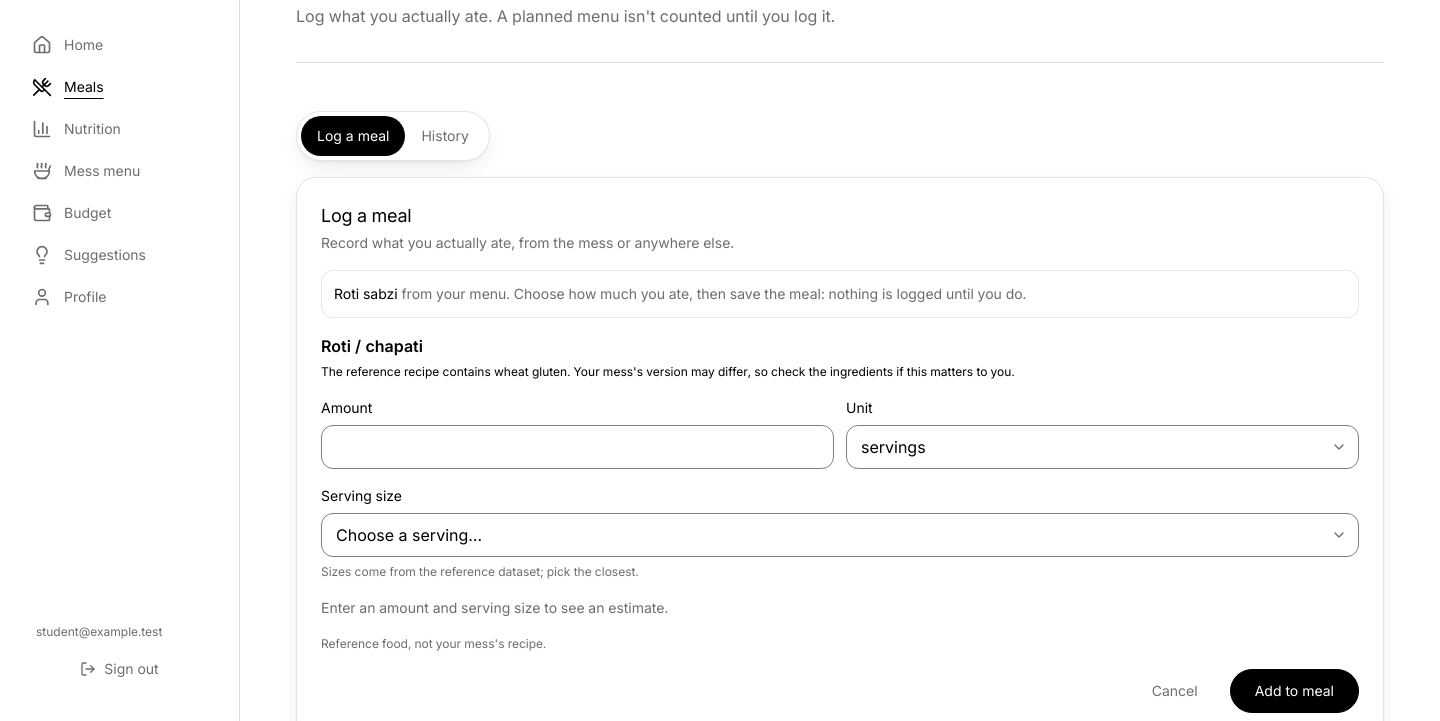
Test: logging a dish from a suggestion › prefills the linked reference food, waits for a portion and an explicit save, then sends the menu links
Expected: the form named "Portion of Roti / chapati" is shown, [321, 334, 1359, 713]
Expected: the message shows "Roti sabzi from your menu", [321, 270, 1359, 318]
Type "1" into the field labelled "Amount".
click(578, 447); type("1")  # box [321, 425, 834, 469]
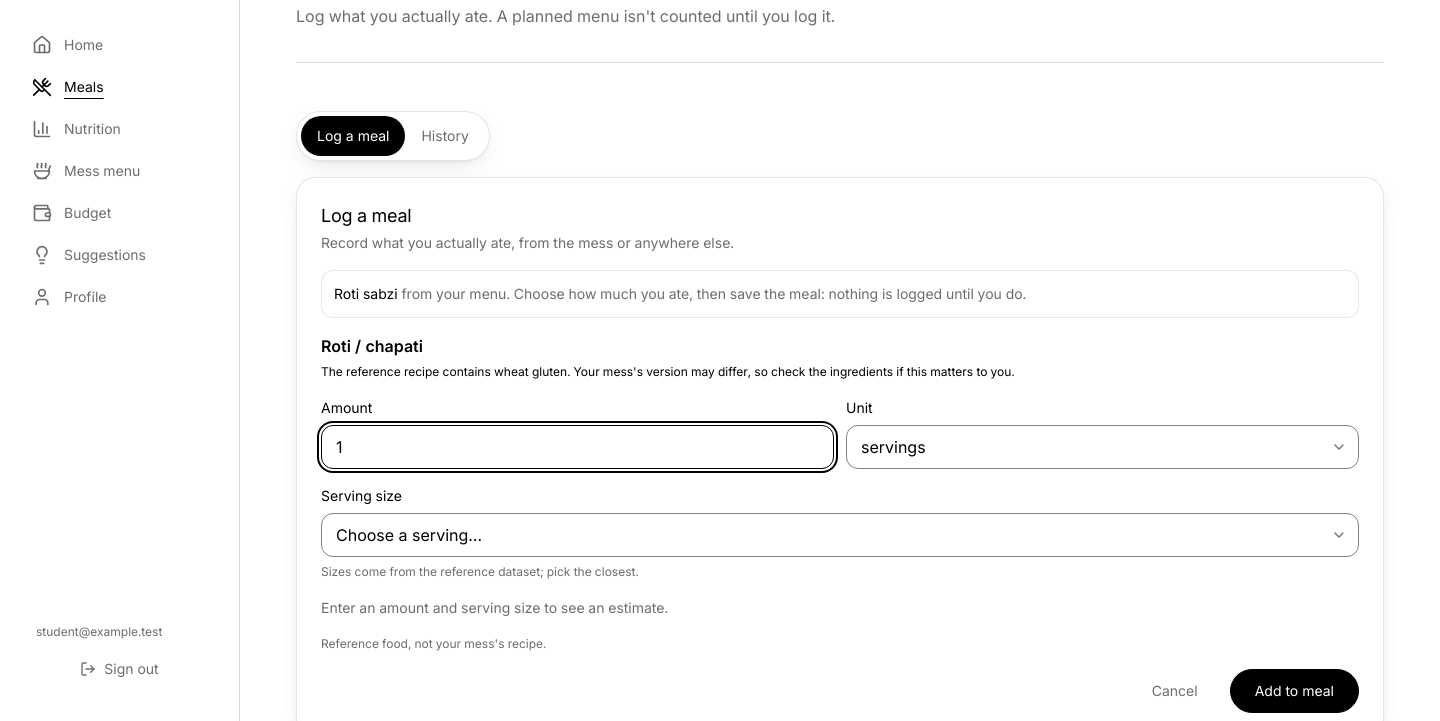
Select "1 medium roti (40 g)" in the dropdown labelled "Serving size" at {"x": 840, "y": 535}, box [321, 513, 1359, 557]
(page scrolled)
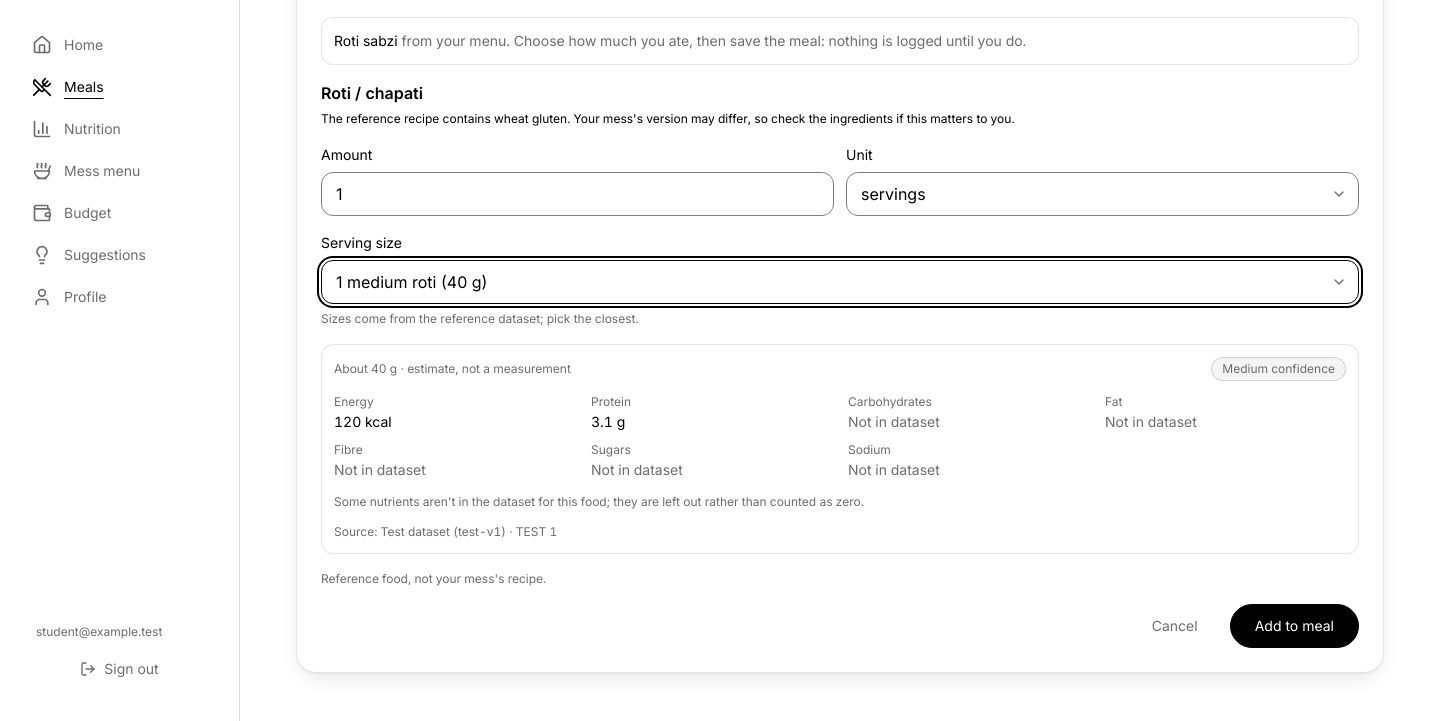
Expected: the text "120 kcal" is shown, [334, 413, 392, 430]
Click the button "Add to meal".
click(1294, 626)  # box [1230, 604, 1359, 648]
(page scrolled)
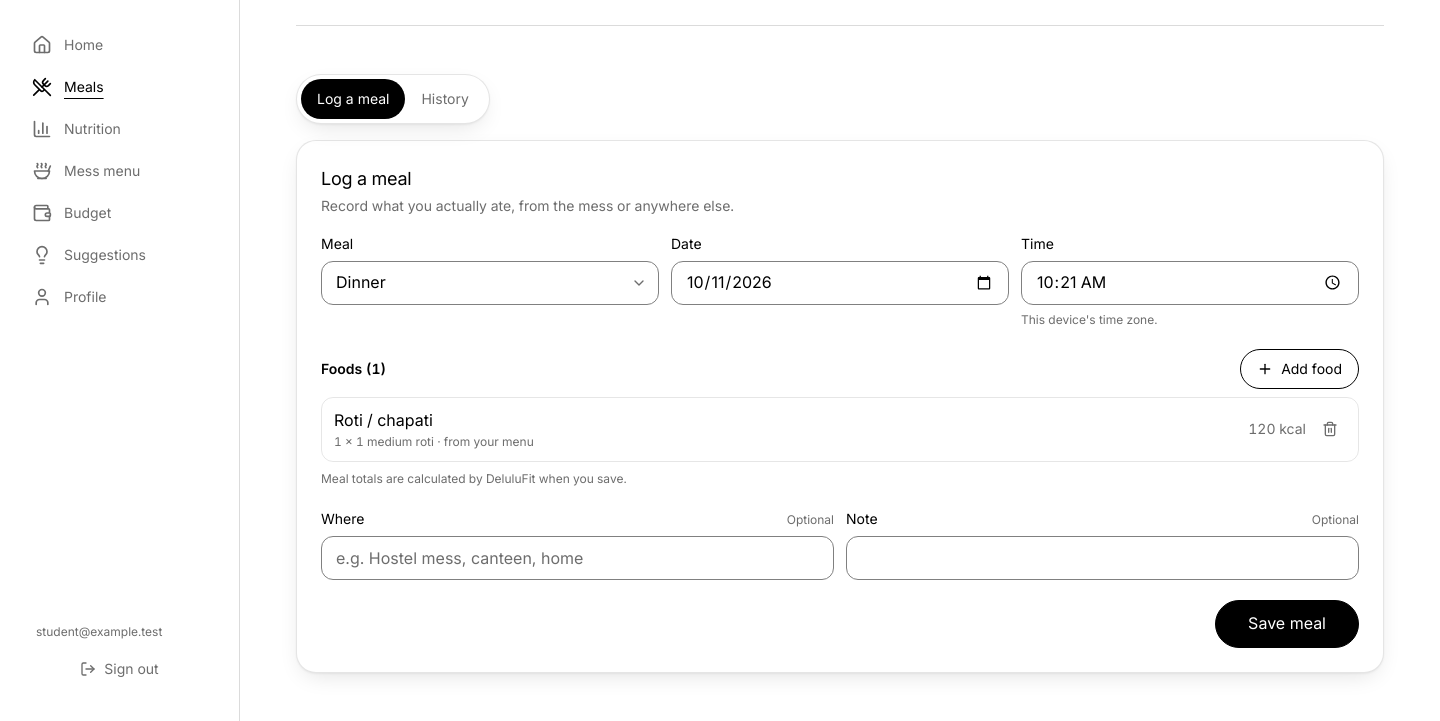
Expected: the heading "Foods (1)" is shown, [321, 358, 386, 380]
Expected: the text "1 × 1 medium roti · from your menu" is shown, [334, 433, 534, 451]
Expected: the dropdown labelled "Meal" shows "Dinner", [321, 261, 659, 305]
Click the button "Save meal".
click(1287, 624)  # box [1215, 600, 1359, 648]
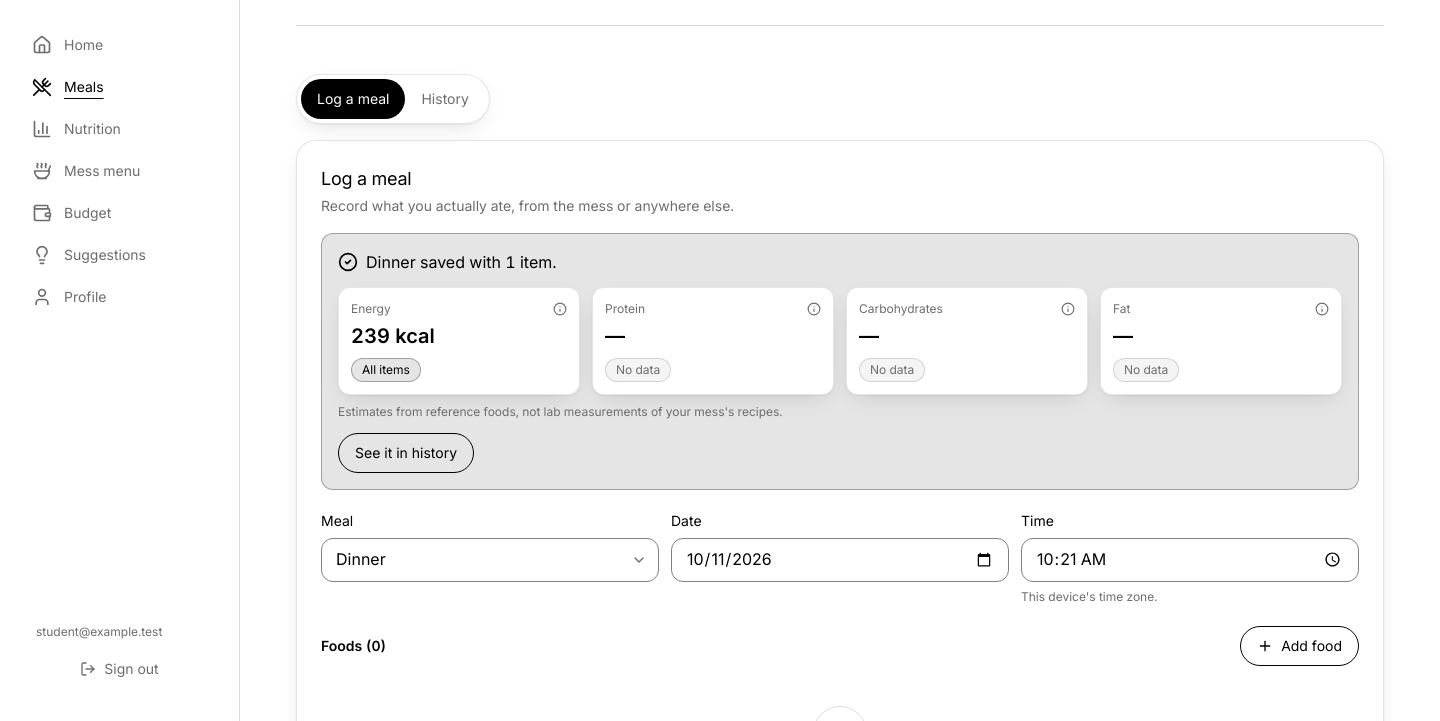
Expected: the text "Dinner saved with 1 item." is shown, [338, 252, 556, 272]
